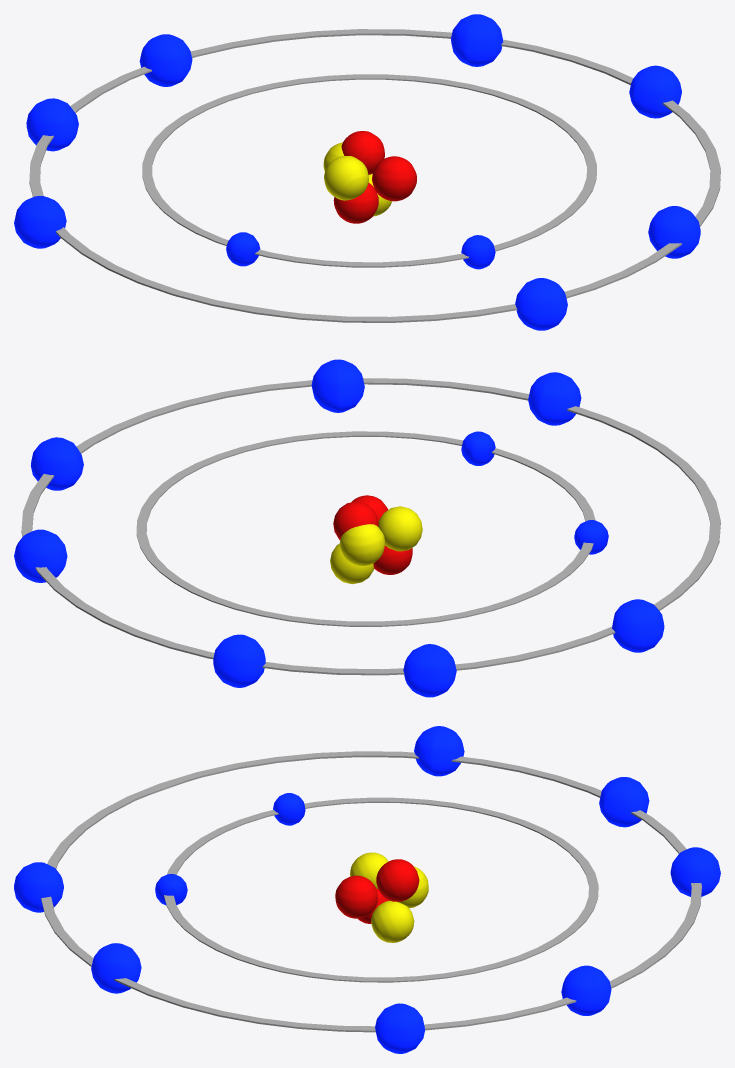
The model's file is Flourine_atom 7.fbx.
3 views of the same model, one above another, from view 1: azimuth 30°, elevation 25°; view 2: azimuth 150°, elevation 25°; view 3: azimuth 270°, elevation 25° (orthographic). The views are drawn at different scales.
Parts seen in each view (by area): view 1: polySurface4_1, polySurface4, polySurface3_7, polySurface3_5, polySurface3_3, polySurface3, polySurface3_4, polySurface3_2, polySurface3_8, polySurface11, polySurface9, polySurface7 (+3 smaller); view 2: polySurface4_1, polySurface4, polySurface3_2, polySurface3_8, polySurface3_3, polySurface3, polySurface3_7, polySurface3_4, polySurface3_5, polySurface9, polySurface12, polySurface7 (+4 smaller); view 3: polySurface4_1, polySurface4, polySurface3_4, polySurface3, polySurface3_5, polySurface3_2, polySurface3_8, polySurface3_7, polySurface3_3, polySurface11, polySurface7, polySurface8 (+3 smaller).
Part boxes in pixels (x1,y1,x2,y2): polySurface4_1: (29, 29, 720, 322); polySurface4: (142, 74, 596, 267); polySurface3_7: (515, 278, 567, 330); polySurface3_5: (451, 14, 503, 66); polySurface3_3: (139, 34, 192, 86); polySurface3: (14, 196, 66, 248); polySurface3_4: (629, 65, 681, 118); polySurface3_2: (26, 98, 78, 151); polySurface3_8: (648, 206, 700, 258); polySurface11: (372, 156, 416, 201); polySurface9: (324, 156, 368, 200); polySurface7: (341, 131, 384, 174); polySurface4_1: (21, 378, 720, 675); polySurface4: (136, 431, 595, 626); polySurface3_2: (403, 644, 456, 697); polySurface3_8: (311, 359, 364, 412); polySurface3_3: (213, 634, 265, 687); polySurface3: (612, 599, 664, 652); polySurface3_7: (528, 372, 581, 425); polySurface3_4: (30, 437, 83, 490); polySurface3_5: (14, 529, 67, 582); polySurface9: (378, 506, 422, 551); polySurface12: (340, 524, 384, 565); polySurface7: (333, 501, 378, 539); polySurface4_1: (41, 751, 701, 1032); polySurface4: (164, 797, 598, 982); polySurface3_4: (375, 1003, 424, 1053); polySurface3: (414, 726, 464, 776); polySurface3_5: (561, 965, 611, 1015); polySurface3_2: (599, 777, 649, 827); polySurface3_8: (91, 943, 141, 993); polySurface3_7: (14, 862, 63, 912); polySurface3_3: (670, 847, 720, 896); polySurface11: (335, 875, 377, 918); polySurface7: (376, 859, 419, 901); polySurface8: (371, 900, 414, 942).
Bounding box in the file's own units: 625 × 75.08 × 625.
